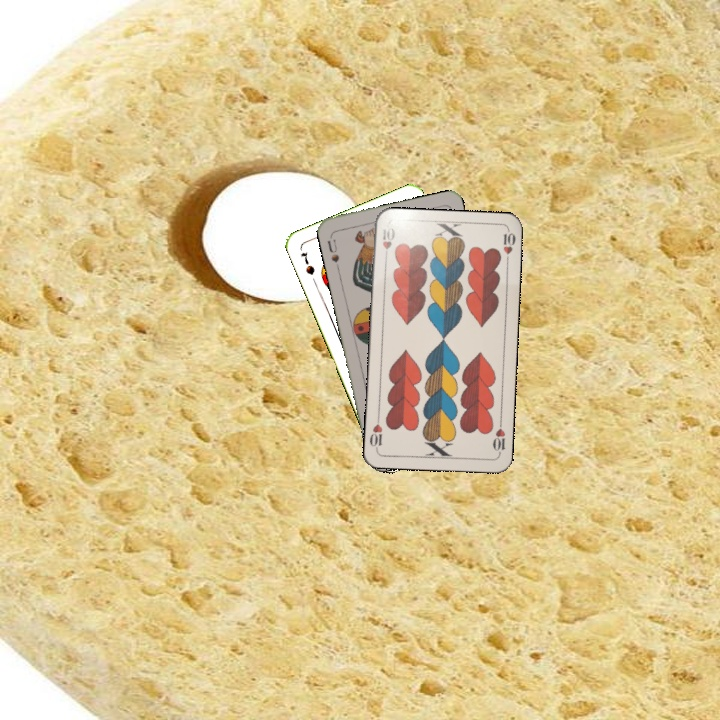H10: (378, 222, 397, 263), (489, 416, 508, 457)
S7: (297, 247, 317, 278)
SU: (323, 231, 342, 272)
